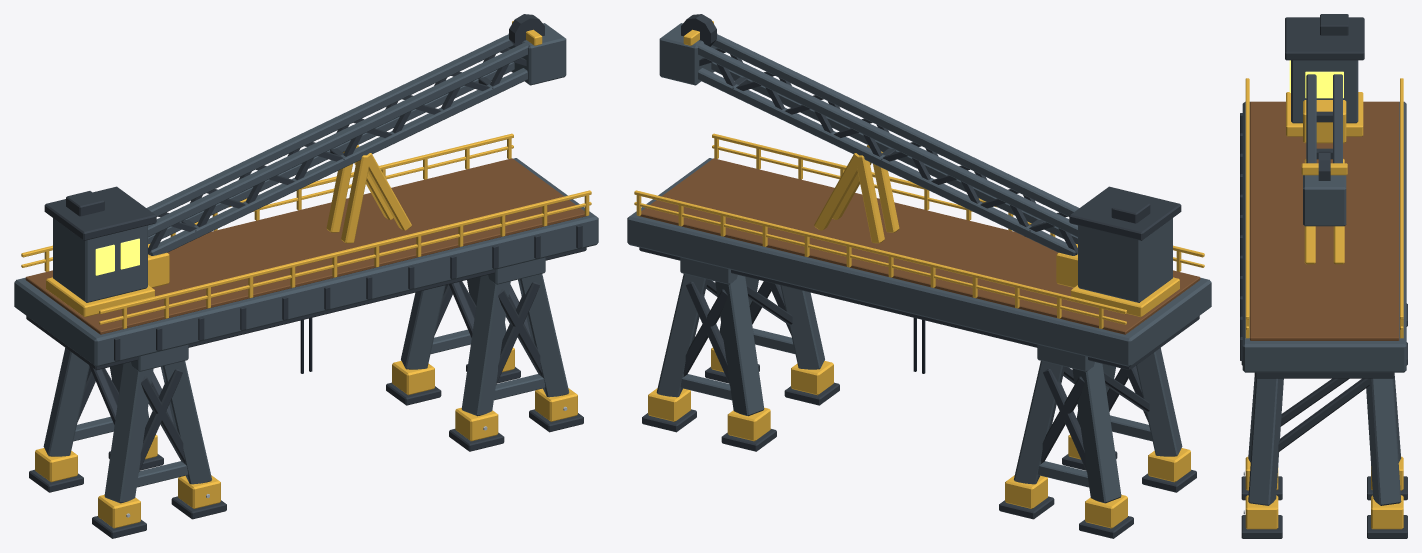
The model's file is Crane_Large.fbx.
3 views of the same model, side by side, from view 1: azimuth 30°, elevation 25°; view 2: azimuth 150°, elevation 25°; view 3: azimuth 270°, elevation 25° (orthographic).
Visible parts, largest first — view 1: Frame, WoodDark, FrameDark, Amber_Metal, Lamp; view 2: Frame, WoodDark, Amber_Metal, FrameDark; view 3: WoodDark, Frame, FrameDark, Amber_Metal, Lamp.
Part boxes in pixels (box(x1,y1,x2,y2)): Frame: box(14, 23, 598, 503); WoodDark: box(25, 158, 586, 334); FrameDark: box(26, 14, 586, 538); Amber_Metal: box(21, 21, 591, 528); Lamp: box(95, 238, 139, 275); Frame: box(627, 23, 1211, 503); WoodDark: box(639, 158, 1200, 334); Amber_Metal: box(634, 21, 1204, 528); FrameDark: box(639, 14, 1199, 538); WoodDark: box(1250, 101, 1399, 340); Frame: box(1242, 60, 1406, 505); FrameDark: box(1240, 14, 1407, 538); Amber_Metal: box(1245, 78, 1403, 529); Lamp: box(1289, 60, 1343, 98).
Bounding box in the file's own units: 24 × 17.35 × 6.96.
